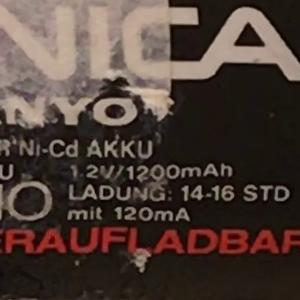keyword: (4, 131, 87, 160)
